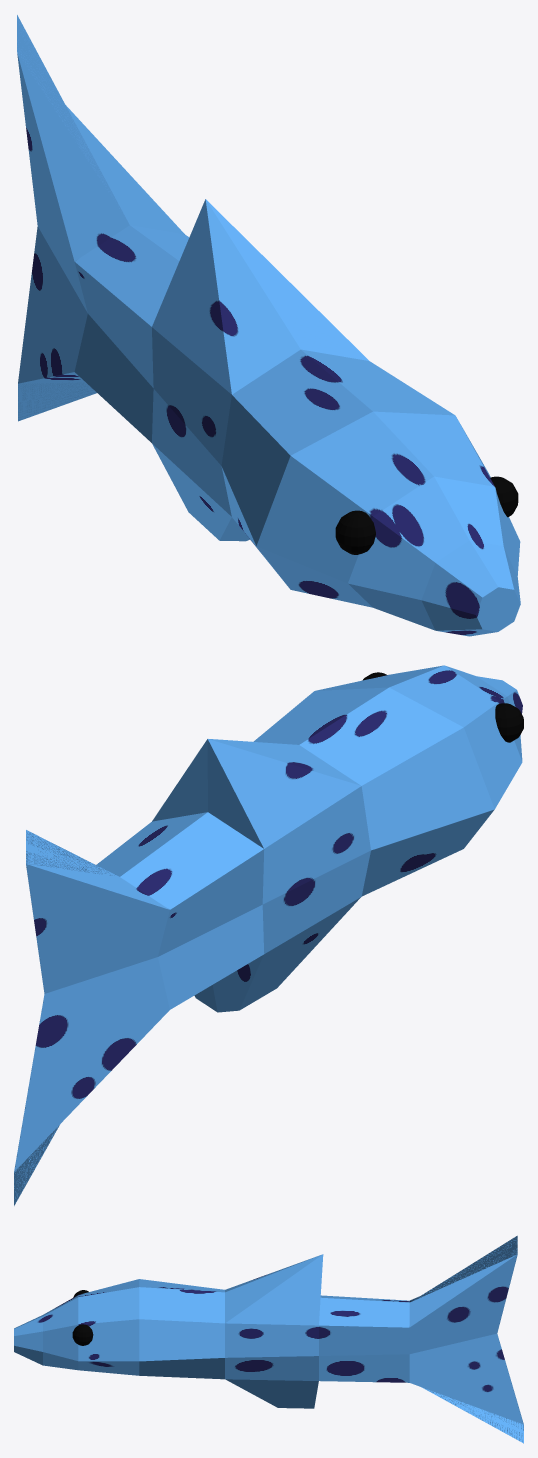
The model's file is Fish3.glb.
3 renders of one model, top to bottom at view 1: azimuth 30°, elevation 25°; view 2: azimuth 150°, elevation 25°; view 3: azimuth 270°, elevation 25°, orthographic. The views are drawn at different scales.
Parts seen in each view (by area): view 1: Cylinder; view 2: Cylinder; view 3: Cylinder.
Boxes of the visible parts, x1,y1,x2,y2 form: Cylinder: [17, 15, 520, 636]; Cylinder: [14, 665, 523, 1205]; Cylinder: [14, 1235, 523, 1443].
Size of the model in its own units: 0.0555 by 0.094 by 0.2102.
Materials: 2 (1 with a texture image).
